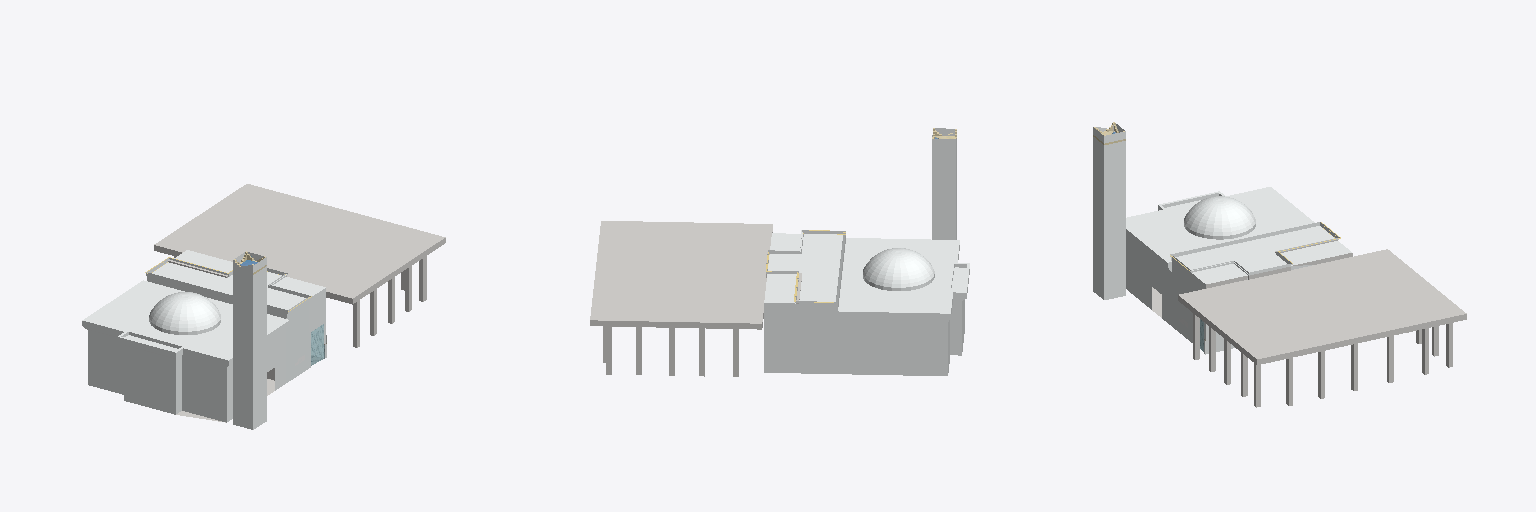
3 views of the same model, side by side, from view 1: azimuth 30°, elevation 25°; view 2: azimuth 150°, elevation 25°; view 3: azimuth 270°, elevation 25° (orthographic).
Parts seen in each view (by area): view 1: Mesh2 Model, Mesh3 Model, Mesh1 Group1 Model; view 2: Mesh2 Model, Mesh3 Model; view 3: Mesh2 Model, Mesh3 Model, Mesh1 Group1 Model.
Part boxes in pixels (x1,y1,x2,y2): Mesh2 Model: (82, 184, 445, 422); Mesh3 Model: (233, 251, 266, 429); Mesh1 Group1 Model: (286, 300, 310, 382); Mesh2 Model: (590, 221, 969, 376); Mesh3 Model: (932, 128, 956, 239); Mesh2 Model: (1126, 187, 1466, 407); Mesh3 Model: (1093, 122, 1125, 299); Mesh1 Group1 Model: (1172, 258, 1192, 342).
Bounding box in the file's own units: 57.89 × 25.53 × 52.55.
14 materials, 11 textured.